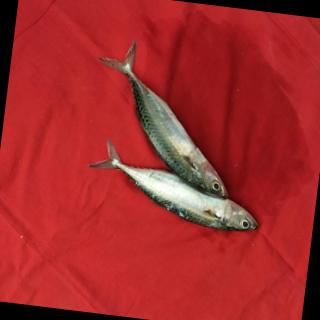Ikan: (72, 35, 291, 254)
